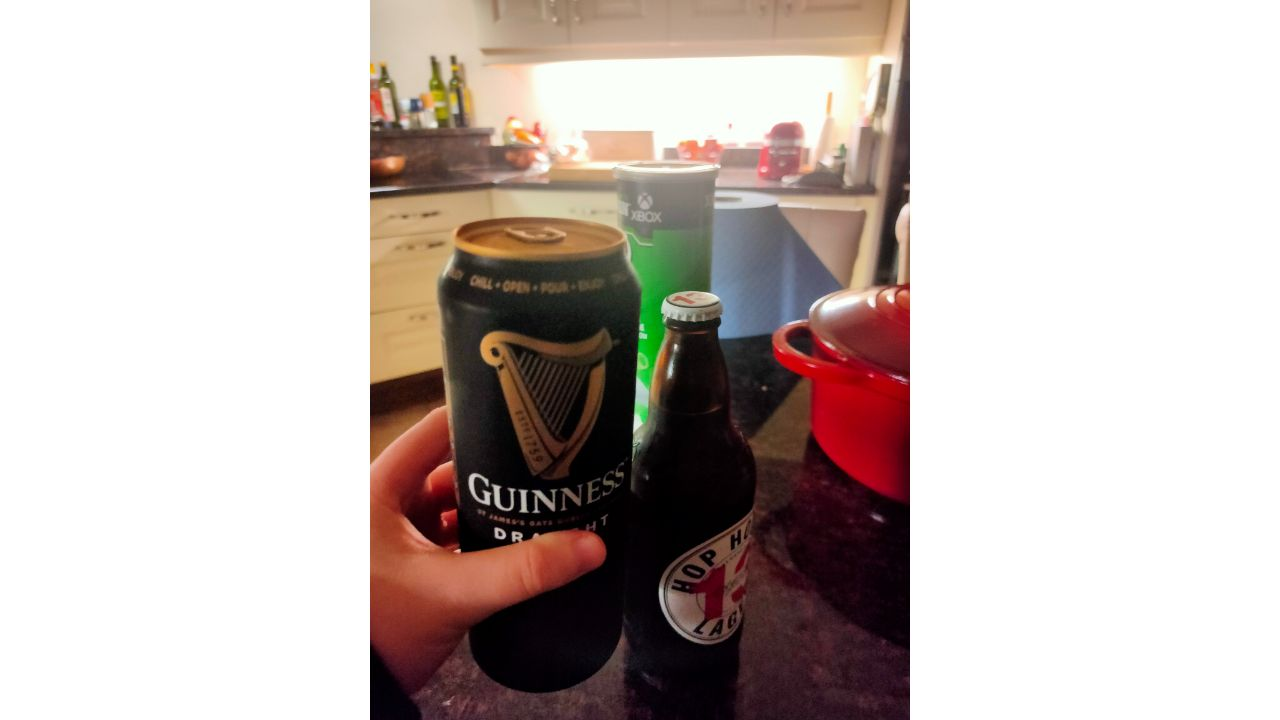Can: (442, 218, 639, 692)
